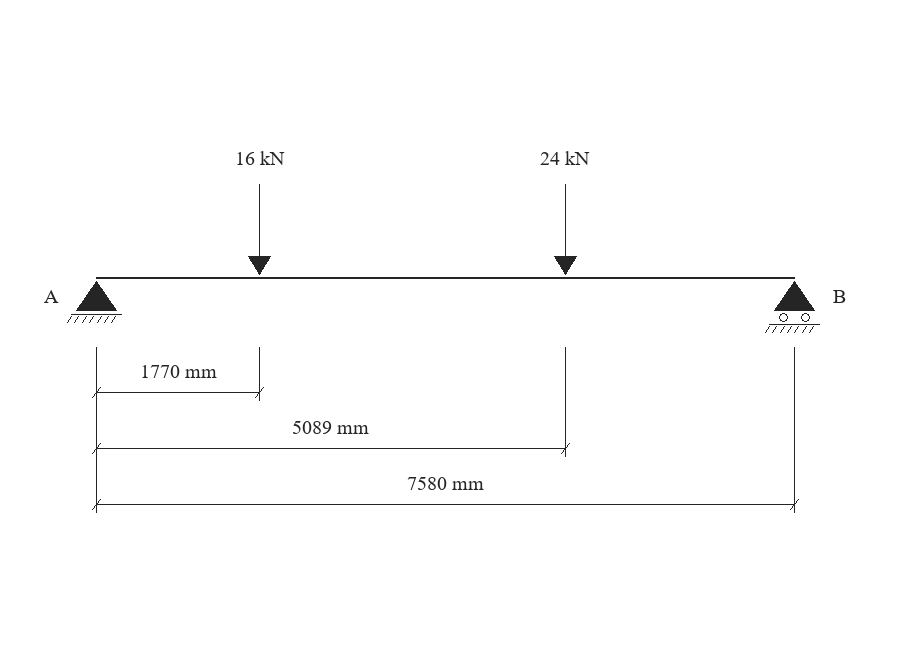pin_support: (67, 281, 122, 323)
point_load: (248, 184, 271, 275), (554, 184, 577, 275)
roller_support: (765, 281, 820, 333)
